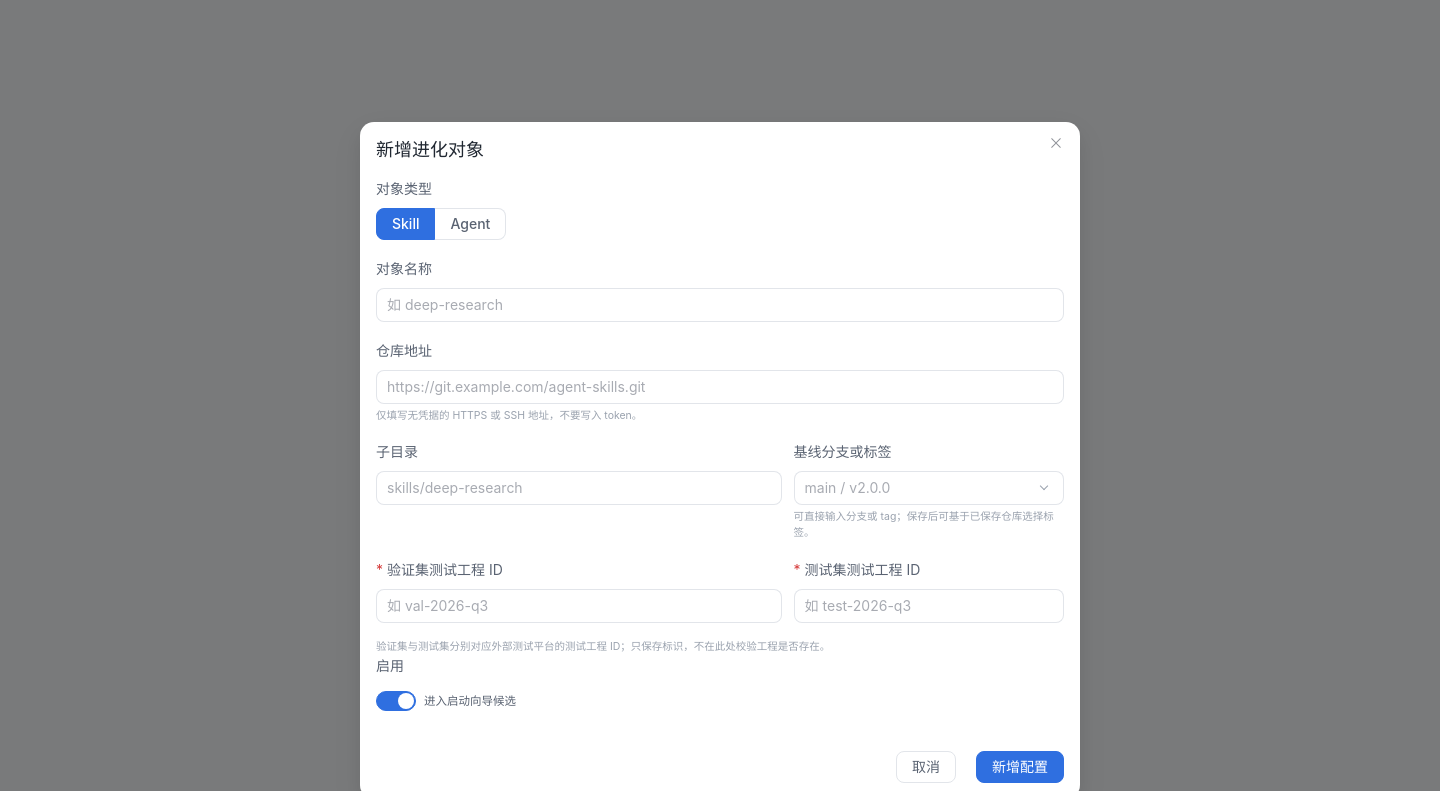
Scenario: TargetFormDialog › clears a stale baseline error as soon as one valid character is typed
Submit the form, box left=376, top=178, right=1064, bottom=735
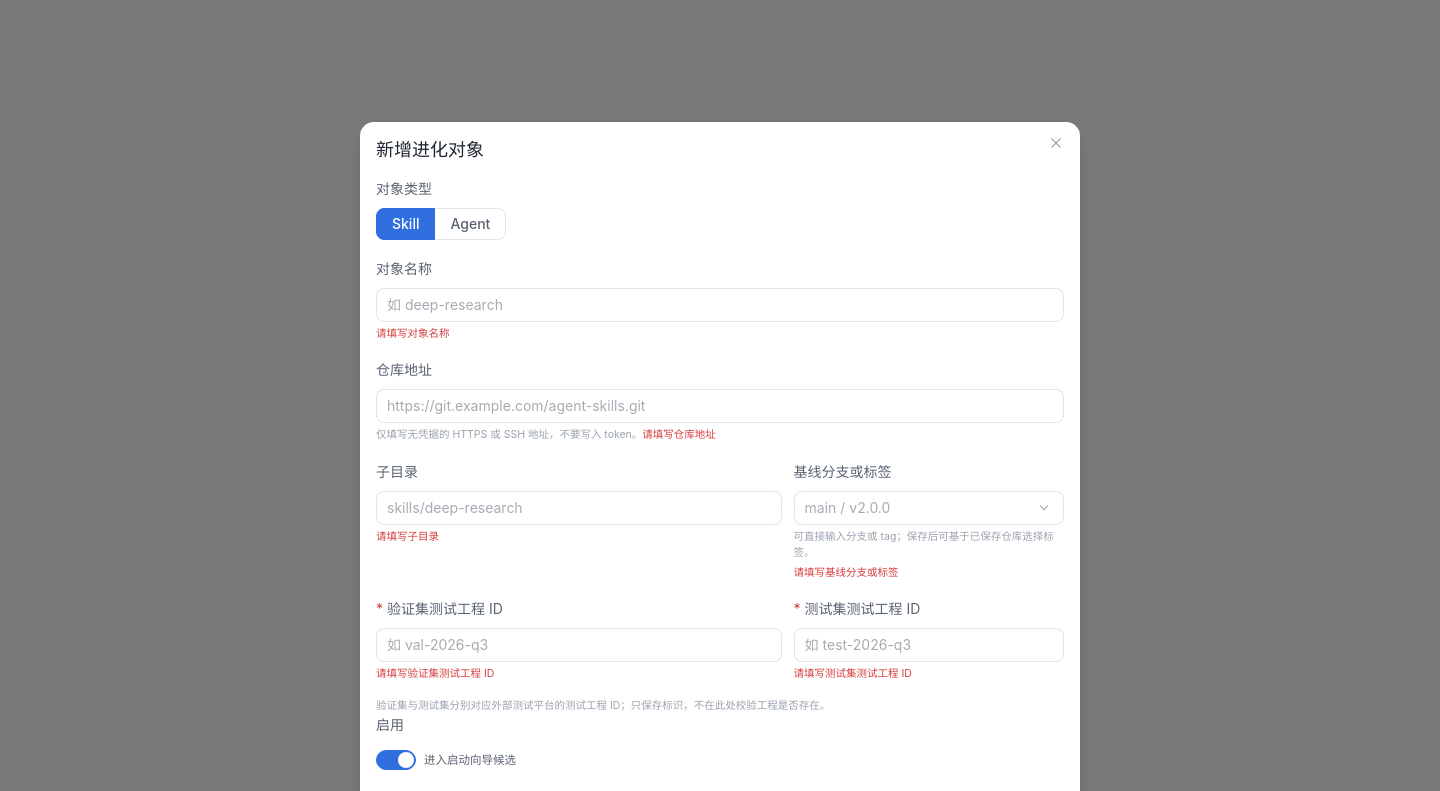
Check: the text "请填写基线分支或标签" is shown, box left=794, top=565, right=899, bottom=580
Type "f" into the field named "defaultRef".
click(916, 508); type("f")  # box left=805, top=493, right=1027, bottom=523
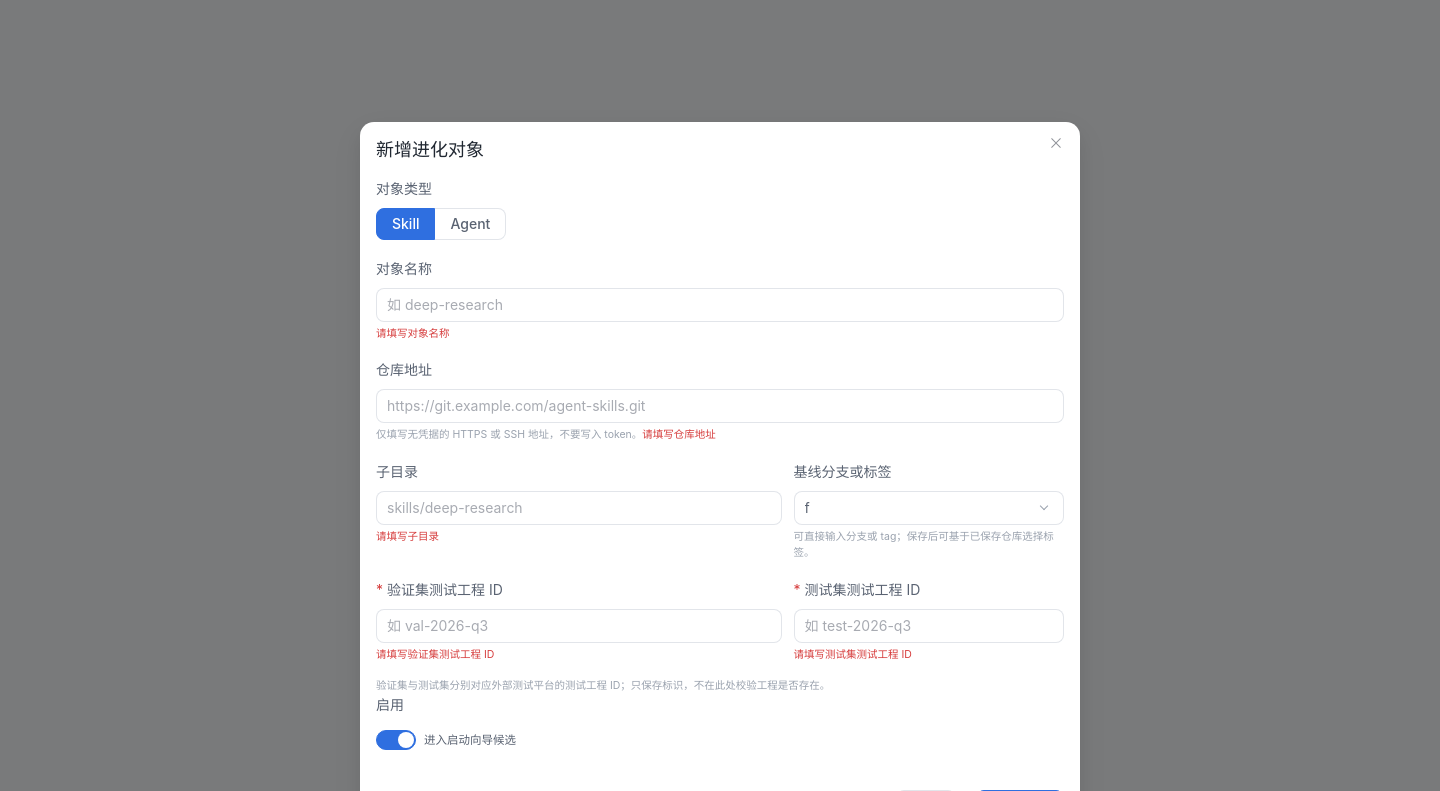
Check: the text "请填写基线分支或标签" is gone
